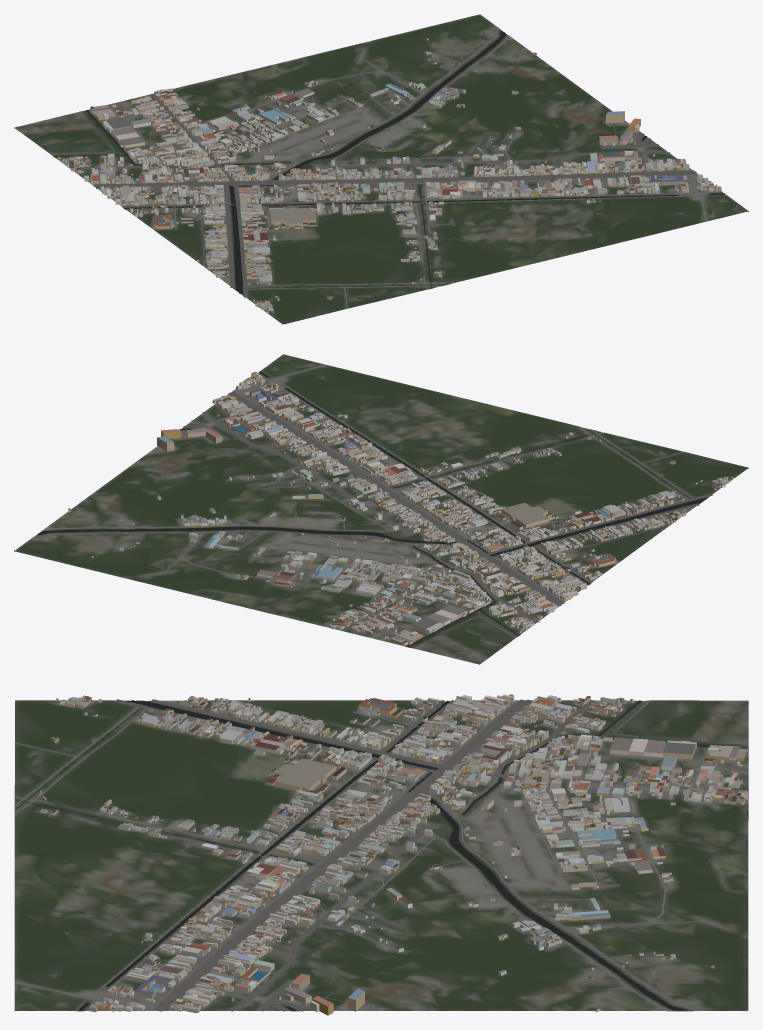
3 views of the same model, one above another, from view 1: azimuth 30°, elevation 25°; view 2: azimuth 150°, elevation 25°; view 3: azimuth 270°, elevation 25° (orthographic). The views are drawn at different scales.
Parts seen in each view (by area): view 1: ground, buildings, roads, water; view 2: ground, buildings, roads, water; view 3: ground, buildings, roads, water.
Boxes of the visible parts, x1,y1,x2,y2 form: ground: (14, 14, 748, 324); buildings: (58, 38, 721, 313); roads: (50, 14, 726, 308); water: (53, 30, 725, 294); ground: (14, 354, 748, 664); buildings: (68, 371, 734, 645); roads: (14, 364, 712, 648); water: (37, 371, 707, 647); ground: (14, 700, 748, 1011); buildings: (38, 694, 748, 1015); roads: (14, 699, 748, 1011); water: (14, 700, 748, 1011).
Size of the model in its own units: 1429 by 27.71 by 1403.
